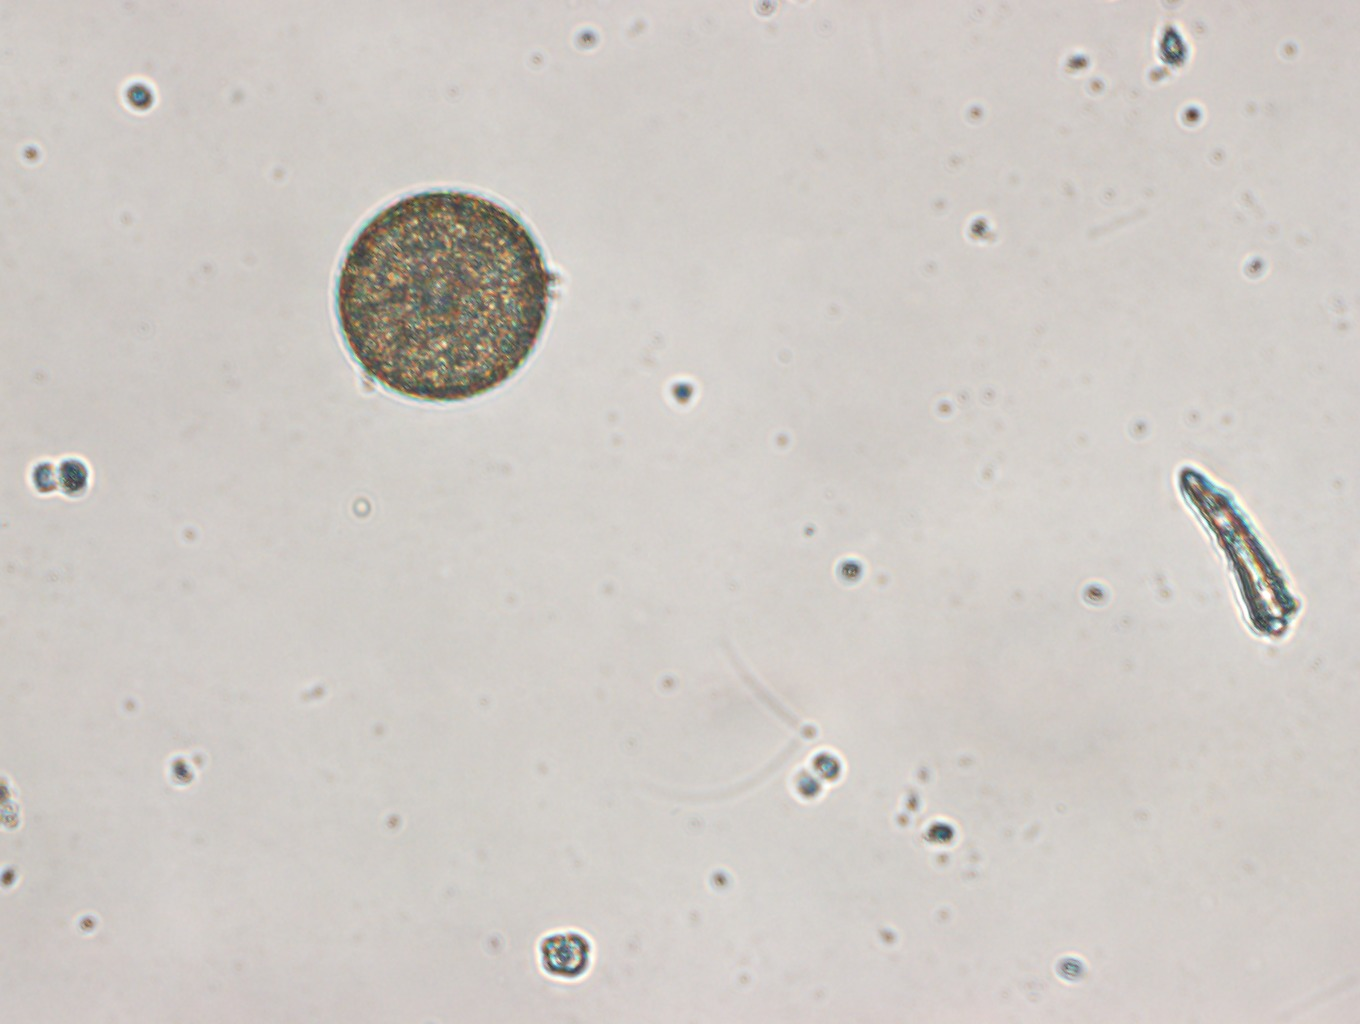coscinodiscus: (330, 181, 553, 408)
